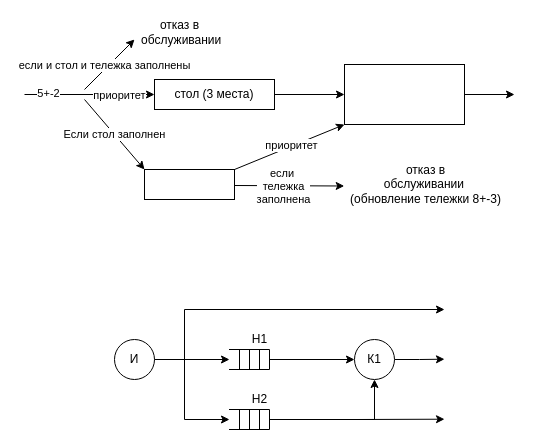
The diagram is 540 pixels wide and 447 high, and some of its shapes have lost their labels. Here are the shapes that lost their labels. From the top down, the box of each, then its label:
(344, 64, 464, 124): станок (10+-5)
(144, 168, 234, 200): тележка (5 мест)
